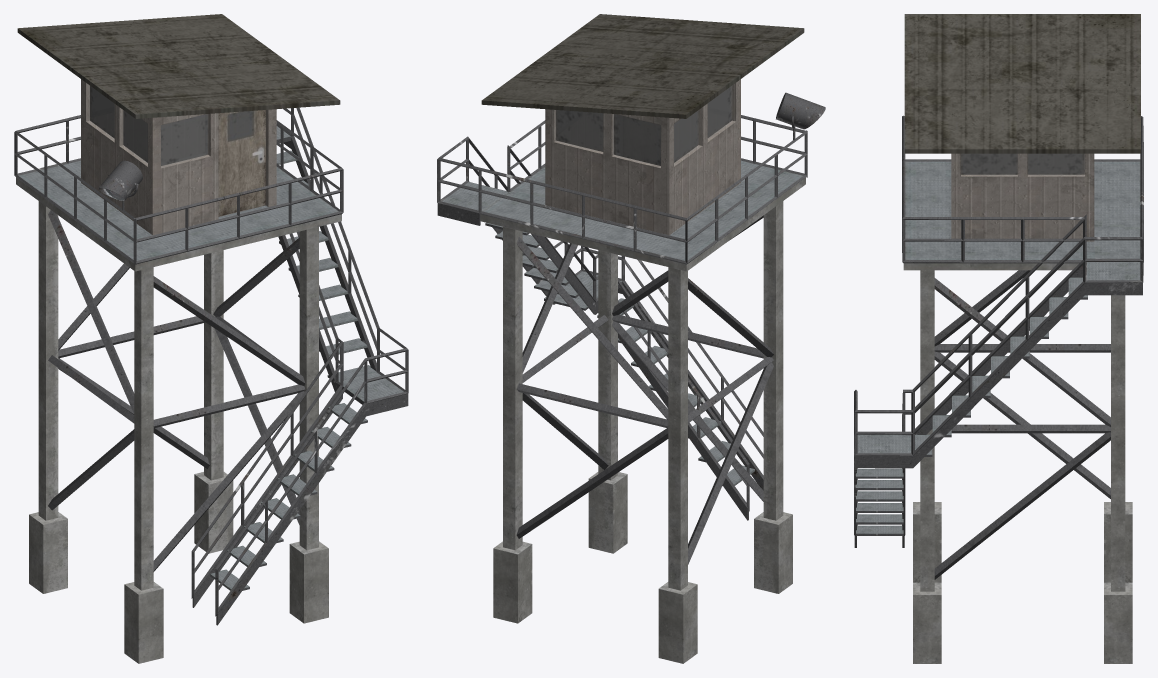
3 views of the same model, side by side, from view 1: azimuth 30°, elevation 25°; view 2: azimuth 150°, elevation 25°; view 3: azimuth 270°, elevation 25° (orthographic).
Parts seen in each view (by area): view 1: Pillars_Cube.003, Roof_Cube.005, Booth_Cube.004, Plane.002, Plane.005_Plane.008, Platform_Cube.001, Plane.003_Plane.005, Steps1_Plane.001, Steps2_Plane.007, Plane, Fllodlight_Cylinder; view 2: Pillars_Cube.003, Roof_Cube.005, Booth_Cube.004, Plane.005_Plane.008, Plane.002, Platform_Cube.001, Plane.003_Plane.005, Steps2_Plane.007, Steps1_Plane.001, Plane, Fllodlight_Cylinder; view 3: Roof_Cube.005, Pillars_Cube.003, Platform_Cube.001, Booth_Cube.004, Plane.002, Plane.005_Plane.008, Plane.003_Plane.005, Steps1_Plane.001, Plane, Steps2_Plane.007.
Boxes of the visible parts, left/top/right/bottom form: Pillars_Cube.003: left=29, top=201, right=328, bottom=663; Roof_Cube.005: left=17, top=14, right=340, bottom=118; Booth_Cube.004: left=81, top=79, right=276, bottom=235; Plane.002: left=14, top=107, right=408, bottom=616; Plane.005_Plane.008: left=48, top=210, right=305, bottom=571; Platform_Cube.001: left=16, top=160, right=341, bottom=271; Plane.003_Plane.005: left=192, top=138, right=408, bottom=625; Steps1_Plane.001: left=210, top=403, right=367, bottom=590; Steps2_Plane.007: left=276, top=150, right=376, bottom=381; Plane: left=276, top=126, right=403, bottom=404; Fllodlight_Cylinder: left=98, top=160, right=142, bottom=200; Pillars_Cube.003: left=493, top=201, right=792, bottom=663; Roof_Cube.005: left=481, top=14, right=804, bottom=118; Booth_Cube.004: left=545, top=79, right=740, bottom=235; Plane.005_Plane.008: left=516, top=215, right=773, bottom=564; Plane.002: left=437, top=115, right=807, bottom=511; Platform_Cube.001: left=480, top=160, right=805, bottom=271; Plane.003_Plane.005: left=437, top=203, right=763, bottom=520; Steps2_Plane.007: left=485, top=222, right=588, bottom=310; Steps1_Plane.001: left=597, top=298, right=754, bottom=485; Plane: left=442, top=182, right=622, bottom=298; Fllodlight_Cylinder: left=776, top=92, right=825, bottom=129; Roof_Cube.005: left=904, top=14, right=1140, bottom=153; Pillars_Cube.003: left=913, top=270, right=1132, bottom=663; Platform_Cube.001: left=903, top=161, right=1140, bottom=270; Booth_Cube.004: left=951, top=153, right=1094, bottom=241; Plane.002: left=854, top=115, right=1143, bottom=535; Plane.005_Plane.008: left=934, top=270, right=1110, bottom=579; Plane.003_Plane.005: left=854, top=265, right=1142, bottom=547; Steps1_Plane.001: left=856, top=468, right=903, bottom=535; Plane: left=857, top=262, right=1140, bottom=453; Steps2_Plane.007: left=915, top=277, right=1087, bottom=456.
Size of the model in its own units: 3.71 by 7.12 by 3.37.
1 material, 1 textured.
